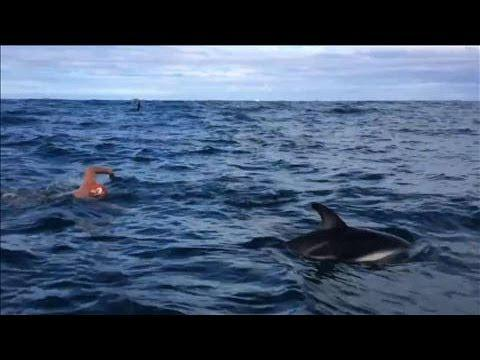swimmer: (75, 164, 112, 199)
